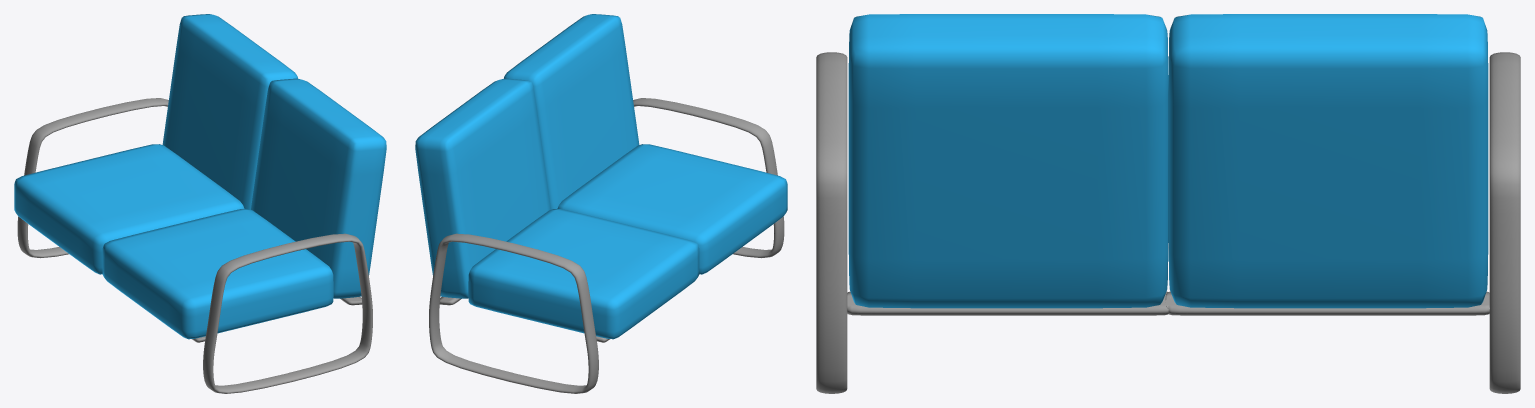
The model's file is Double Seat01.fbx.
The picture shows the model from 3 angles, left to right: view 1: azimuth 30°, elevation 25°; view 2: azimuth 150°, elevation 25°; view 3: azimuth 270°, elevation 25°; orthographic projection. The views are drawn at different scales.
Visible parts, largest first — view 1: Double Seat01; view 2: Double Seat01; view 3: Double Seat01.
Boxes of the visible parts, x1,y1,x2,y2 form: Double Seat01: [14, 14, 386, 393]; Double Seat01: [415, 14, 787, 393]; Double Seat01: [816, 14, 1520, 393].
Size of the model in its own units: 0.5999 by 0.9903 by 0.6111.
